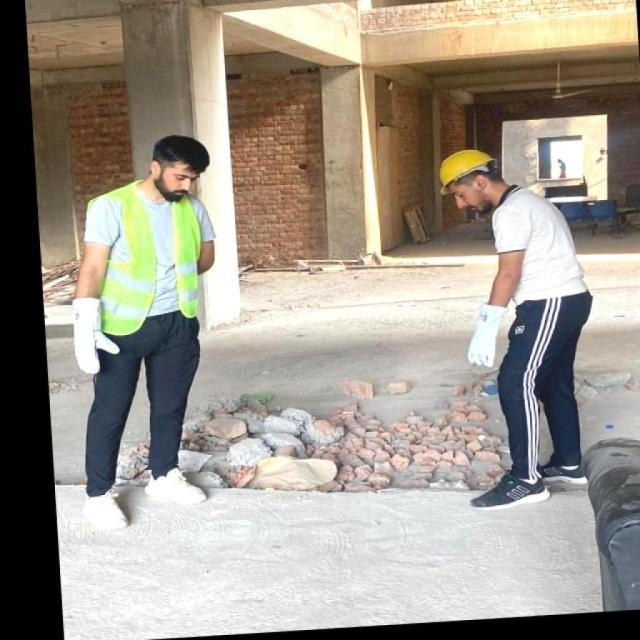Gloves-Detection: (68, 294, 123, 376), (464, 297, 504, 368)
